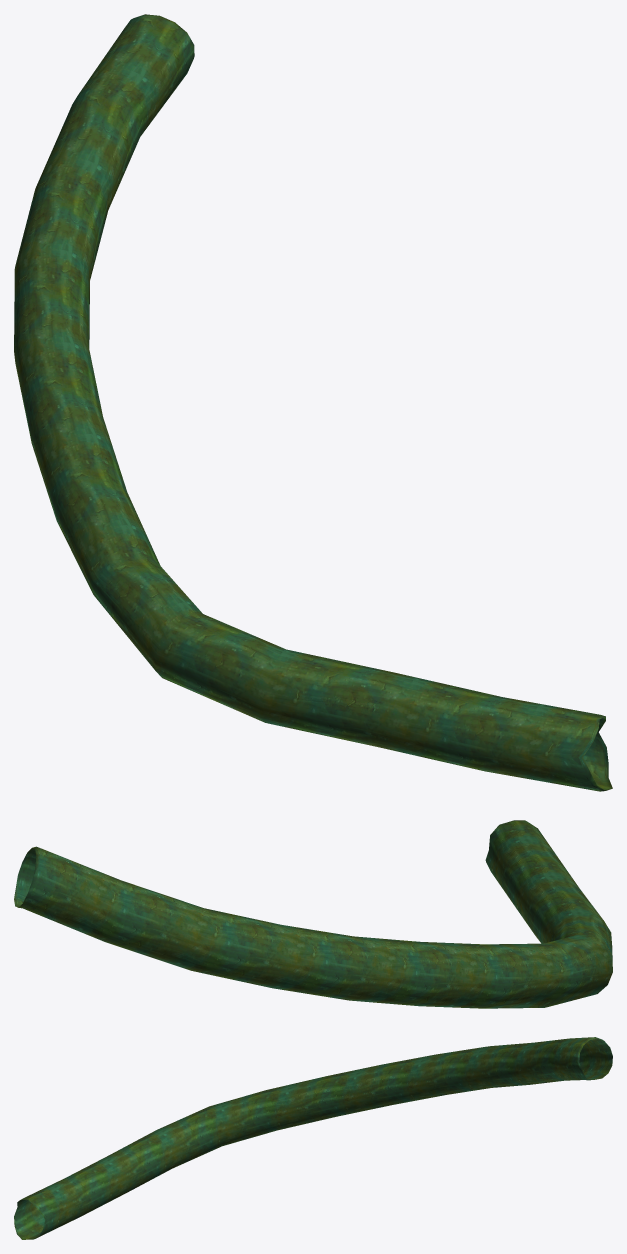
File: MIRKWOOD_TUBE02.fbx
3 views of the same model, one above another, from view 1: azimuth 30°, elevation 25°; view 2: azimuth 150°, elevation 25°; view 3: azimuth 270°, elevation 25° (orthographic). The views are drawn at different scales.
Visible parts, largest first — view 1: MIRKWOOD_TUBE02; view 2: MIRKWOOD_TUBE02; view 3: MIRKWOOD_TUBE02.
Boxes of the visible parts, left/top/right/bottom form: MIRKWOOD_TUBE02: left=14, top=14, right=612, bottom=791; MIRKWOOD_TUBE02: left=14, top=820, right=612, bottom=1008; MIRKWOOD_TUBE02: left=14, top=1037, right=612, bottom=1239.
Size of the model in its own units: 378671 by 370583 by 930180.
Materials: 1 (1 with a texture image).
